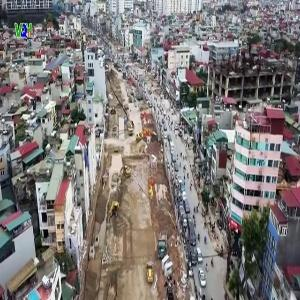drone: (25, 29, 90, 94)
